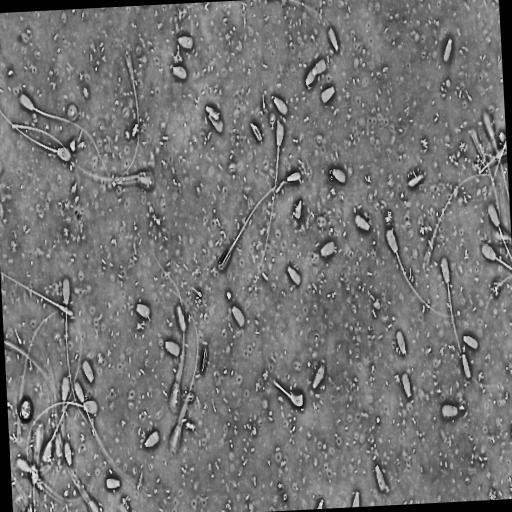coiled-tail: (275, 383, 291, 397)
dirt-particles: (17, 396, 32, 422), (67, 136, 76, 154)
folded-tail: (221, 181, 286, 267)
loose-head: (10, 122, 77, 169), (176, 303, 189, 339), (206, 113, 225, 136), (375, 465, 389, 492), (460, 350, 472, 380), (272, 95, 289, 116), (462, 333, 480, 352), (311, 57, 328, 77), (313, 361, 325, 388), (442, 403, 459, 421), (204, 103, 220, 122), (292, 197, 304, 222), (232, 305, 245, 328), (62, 441, 73, 467), (330, 168, 346, 184), (165, 340, 181, 356), (396, 330, 406, 355), (304, 68, 317, 87), (321, 86, 335, 103), (321, 241, 335, 258), (145, 430, 159, 447), (83, 361, 94, 382), (328, 28, 338, 51), (288, 267, 300, 286), (402, 373, 411, 398), (355, 215, 369, 231), (173, 64, 187, 80), (136, 303, 150, 319), (179, 36, 193, 50), (106, 477, 120, 490), (444, 39, 452, 61), (460, 405, 464, 411)
normal: (17, 90, 115, 180), (386, 229, 466, 319), (72, 378, 134, 485), (149, 245, 187, 415), (218, 180, 288, 271), (61, 274, 93, 432), (25, 398, 99, 464), (257, 121, 285, 276), (0, 106, 73, 164), (0, 268, 76, 320), (440, 255, 461, 355), (273, 380, 304, 408)
